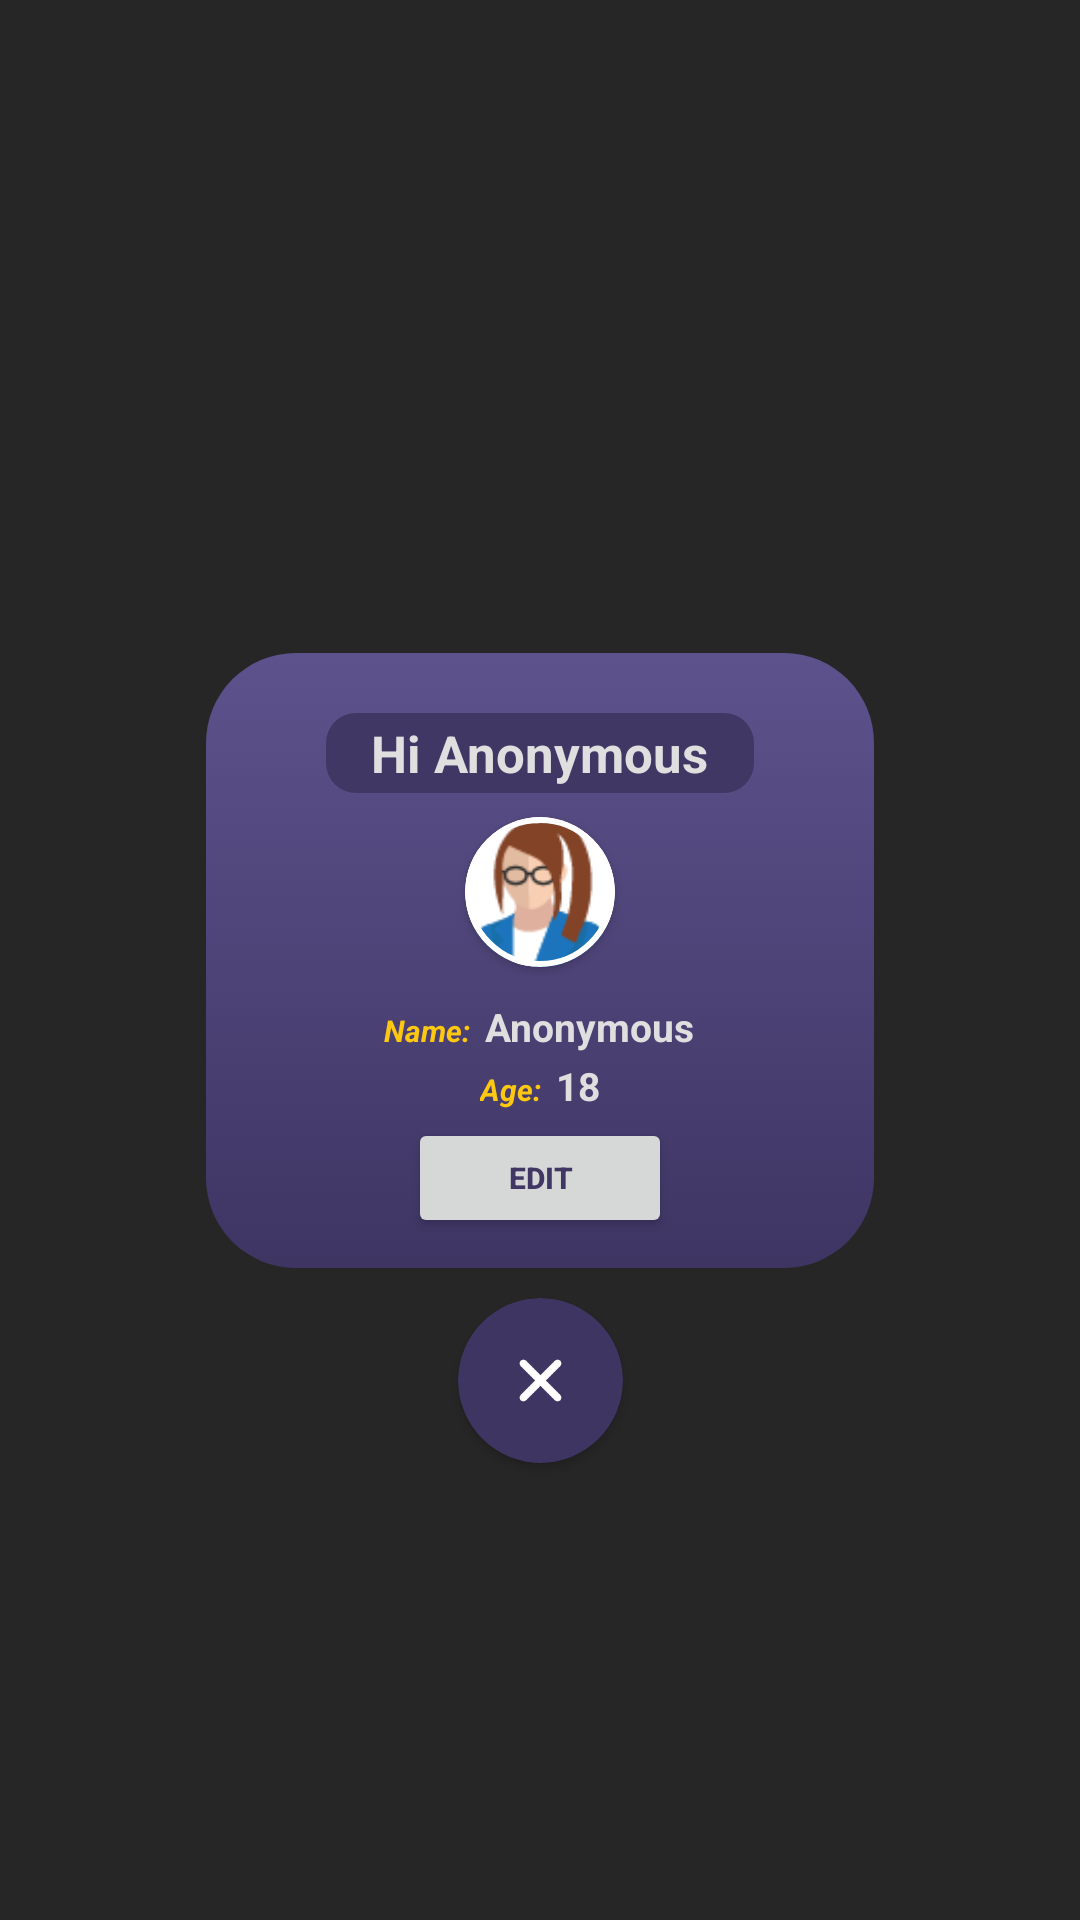

Icon bounding boxes for this 1080×1920 phone screenshot, format (x1, y1, x2, y2):
cancel: (519, 1359, 562, 1402)
